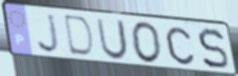C: (164, 25, 197, 67)
D: (63, 13, 96, 60)
J: (36, 13, 62, 56)
O: (130, 21, 164, 66)
S: (196, 27, 231, 72)
U: (95, 17, 130, 62)
